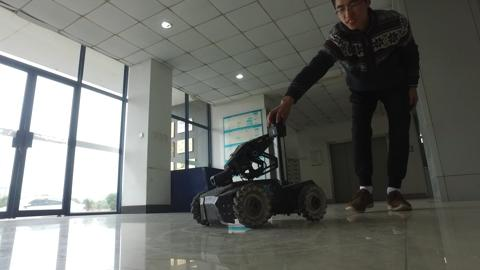chariot: (181, 103, 340, 235)
